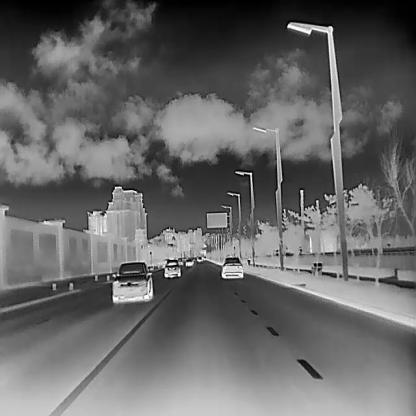car: (111, 261, 152, 301), (220, 256, 243, 278), (164, 258, 180, 277), (185, 257, 193, 265), (176, 256, 183, 265), (196, 255, 202, 261)
